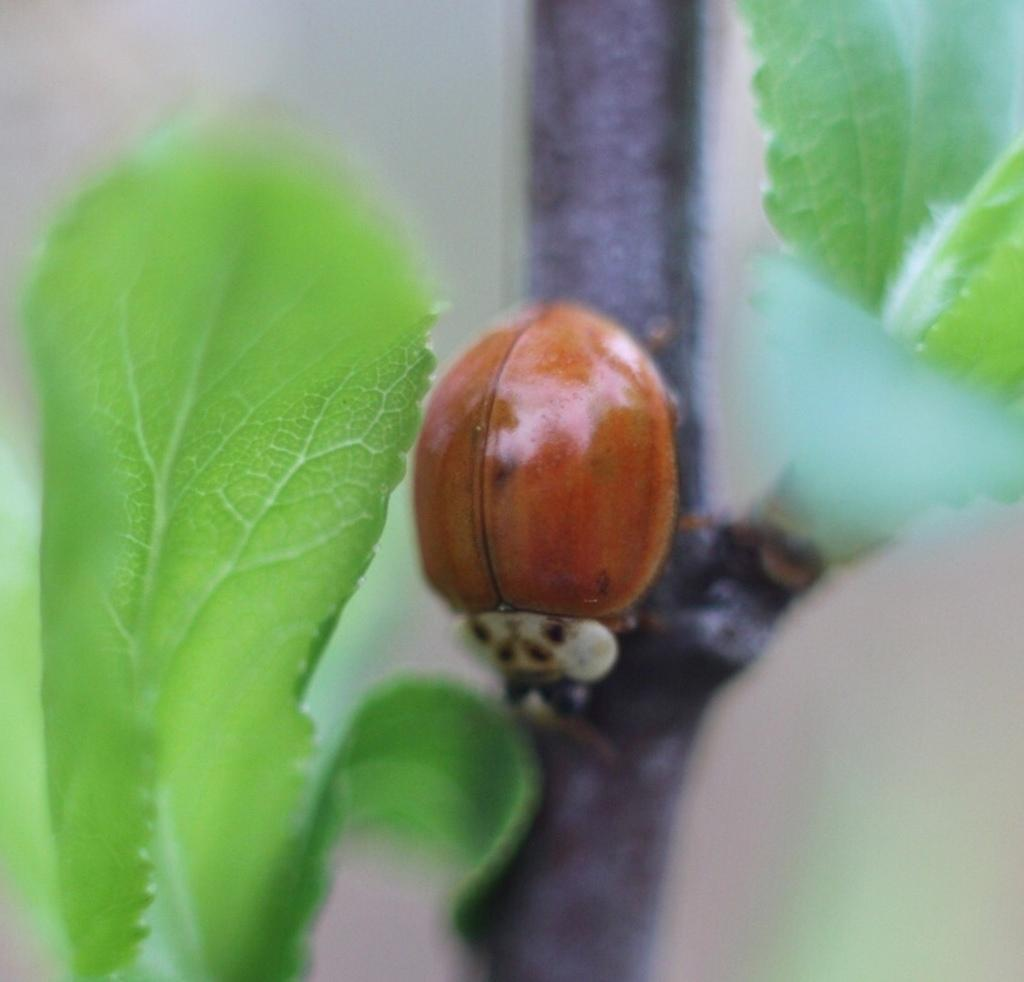ladybug: (411, 296, 704, 726)
